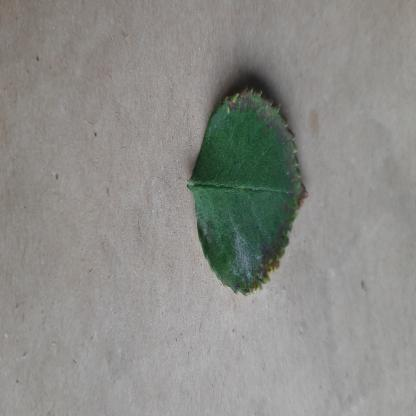downy-mildew: (194, 77, 309, 298)
